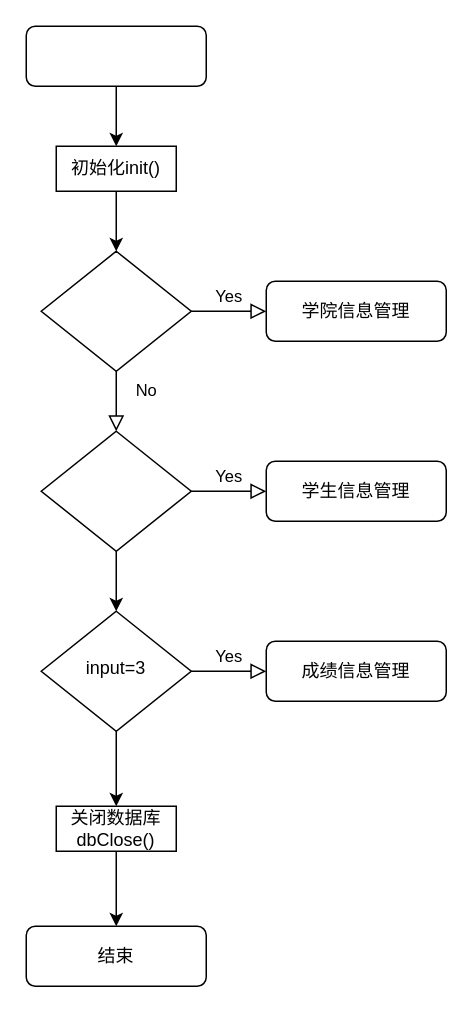
The diagram is 473 pixels wide and 1013 high, and some of its shapes have lost their labels. The centre of each missing label's shape, as x and y in pixels:
"input=1" goes at point (115, 310).
"input=2" goes at point (115, 490).
"开始" goes at point (115, 55).
